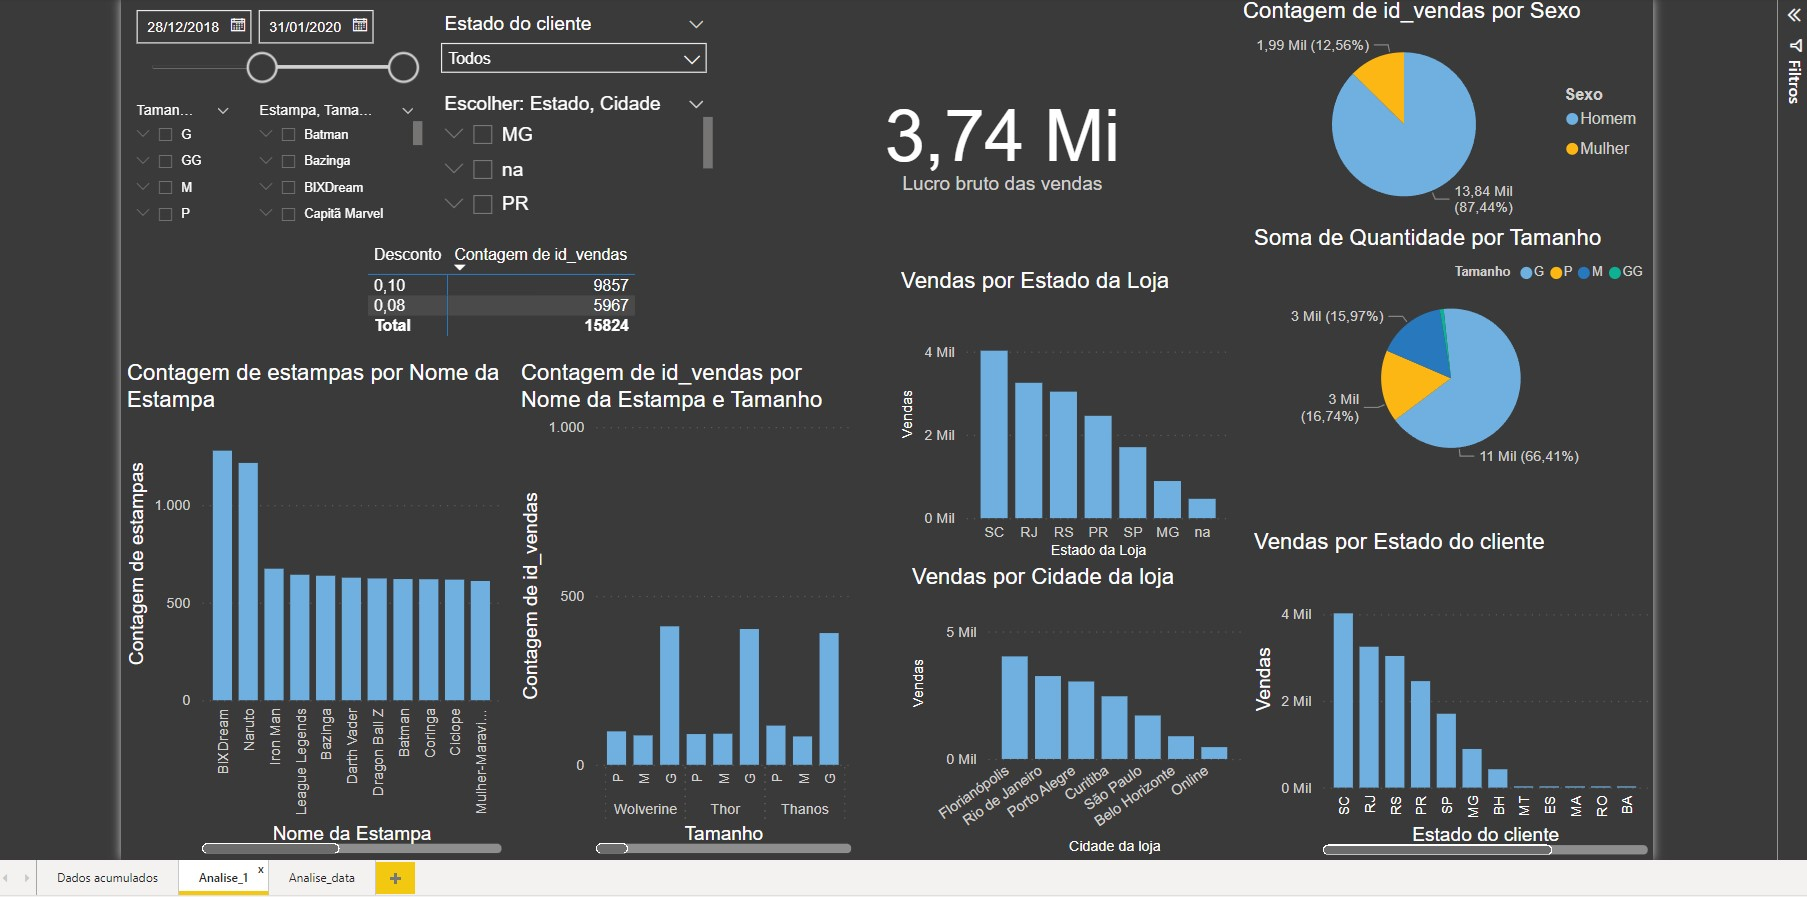

The page's visual inventory and layout, read from the dashboard file:
{"tool":"powerbi","page":{"name":"Analise_1","canvas":[1280,720],"ordinal":1},"visuals":[{"type":"pieChart","fields":{"Category":["dados_consumidor.Sex"],"Y":["dados_vendas.ID"]},"box":[932.4,0,347.6,189.8],"z":0},{"type":"card","fields":{"Values":["dados_vendas.total_paid"]},"box":[577,37.1,318.3,163],"z":1000},{"type":"slicer","fields":{"Values":["dados_vendas.Date"]},"box":[0,0,257,81.9],"z":2000},{"type":"columnChart","fields":{"Category":["dados_produtos.Name"],"Y":["dados_vendas.ID"]},"box":[0,302.7,322.6,417.5],"z":3000},{"type":"columnChart","fields":{"Category":["dados_produtos.Name","dados_produtos.Size"],"Y":["dados_vendas.ID"]},"box":[329.5,302.7,286.4,417.5],"z":4000},{"type":"slicer","fields":{"Values":["dados_produtos.Size","dados_produtos.Name"]},"box":[0,81.9,102.6,118.2],"z":5000},{"type":"slicer","fields":{"Values":["dados_produtos.Name","dados_produtos.Size"]},"box":[102.6,81.9,154.4,109.5],"z":6000},{"type":"pieChart","fields":{"Category":["dados_produtos.Size"],"Y":["dados_vendas.Quantity"]},"box":[941,189.8,339,207.9],"z":7000},{"type":"pivotTable","fields":{"Rows":["dados_vendas.Discount"],"Values":["dados_vendas.ID"]},"box":[201,200.1,242.4,104.4],"z":8000},{"type":"slicer","fields":{"Values":["dados_cliente.State"]},"box":[257,7.8,242.4,66.4],"z":8001},{"type":"slicer","fields":{"Values":["dados_lojas.State","dados_lojas.ID"]},"box":[257,74.2,242.4,124.2],"z":8002},{"type":"columnChart","fields":{"Y":["dados_vendas.StoreID"],"Category":["dados_lojas.Name"]},"box":[655.5,472.7,285.5,247.5],"z":8003},{"type":"columnChart","fields":{"Y":["dados_vendas.StoreID"],"Category":["dados_cliente.State"]},"box":[941,443.3,339,276.9],"z":8004},{"type":"columnChart","fields":{"Y":["dados_vendas.StoreID"],"Category":["dados_lojas.State"]},"box":[646.9,225.1,285.5,247.5],"z":8005}]}

Visuals, with their boxes on the page's 1280x720 design canvas (x1, y1, x2, y2). These are canvas units, not pixel positions in the 1807x897 screenshot, which may show the page scaled, cropped or inside an application window:
pieChart - dados_consumidor.Sex x dados_vendas.ID: [932, 0, 1280, 190]
card - dados_vendas.total_paid: [577, 37, 895, 200]
slicer - dados_vendas.Date: [0, 0, 257, 82]
columnChart - dados_produtos.Name x dados_vendas.ID: [0, 303, 323, 720]
columnChart - dados_produtos.Name x dados_produtos.Size: [330, 303, 616, 720]
slicer - dados_produtos.Size x dados_produtos.Name: [0, 82, 103, 200]
slicer - dados_produtos.Name x dados_produtos.Size: [103, 82, 257, 191]
pieChart - dados_produtos.Size x dados_vendas.Quantity: [941, 190, 1280, 398]
pivotTable - dados_vendas.Discount x dados_vendas.ID: [201, 200, 443, 304]
slicer - dados_cliente.State: [257, 8, 499, 74]
slicer - dados_lojas.State x dados_lojas.ID: [257, 74, 499, 198]
columnChart - dados_vendas.StoreID x dados_lojas.Name: [656, 473, 941, 720]
columnChart - dados_vendas.StoreID x dados_cliente.State: [941, 443, 1280, 720]
columnChart - dados_vendas.StoreID x dados_lojas.State: [647, 225, 932, 473]
